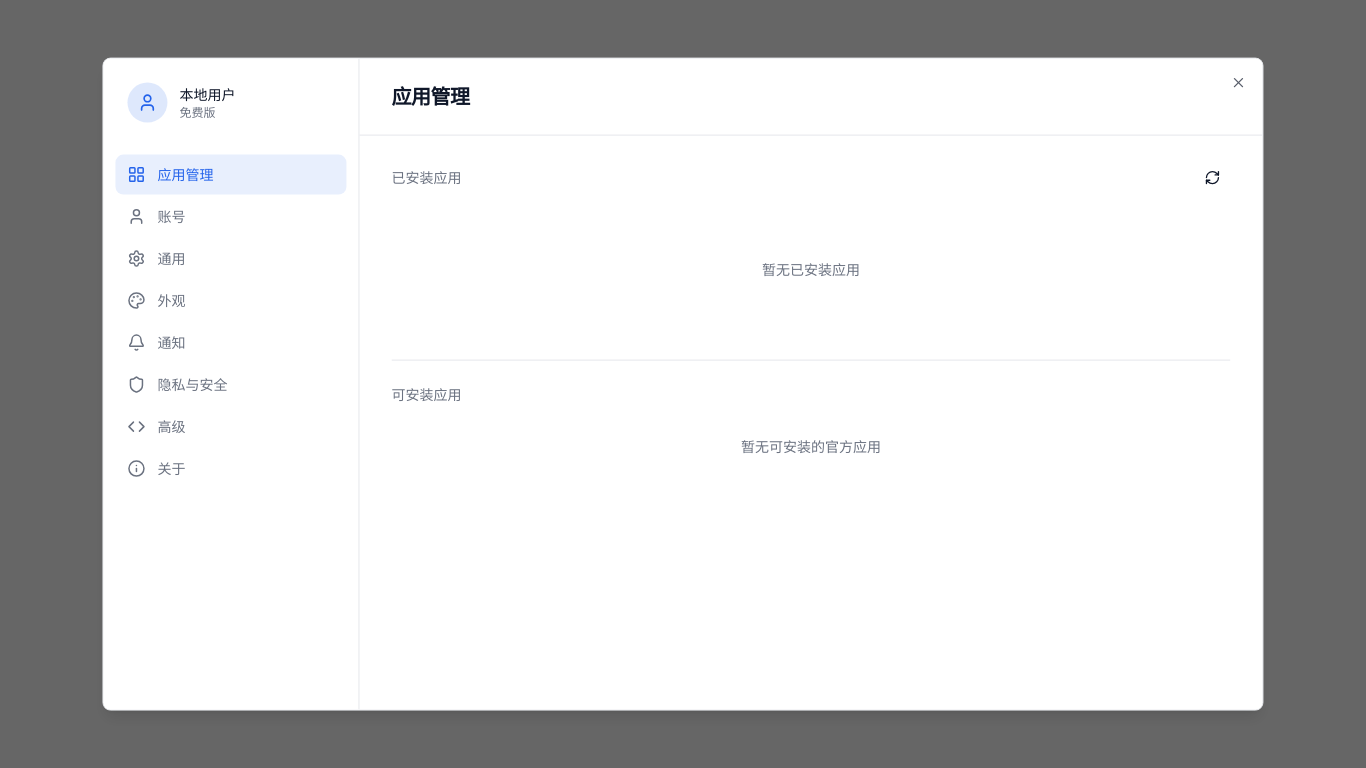
Scenario: 设置关于页 › 显示真实版本并检查更新
Click the button "关于" at (231, 469), box [116,449,346,489]
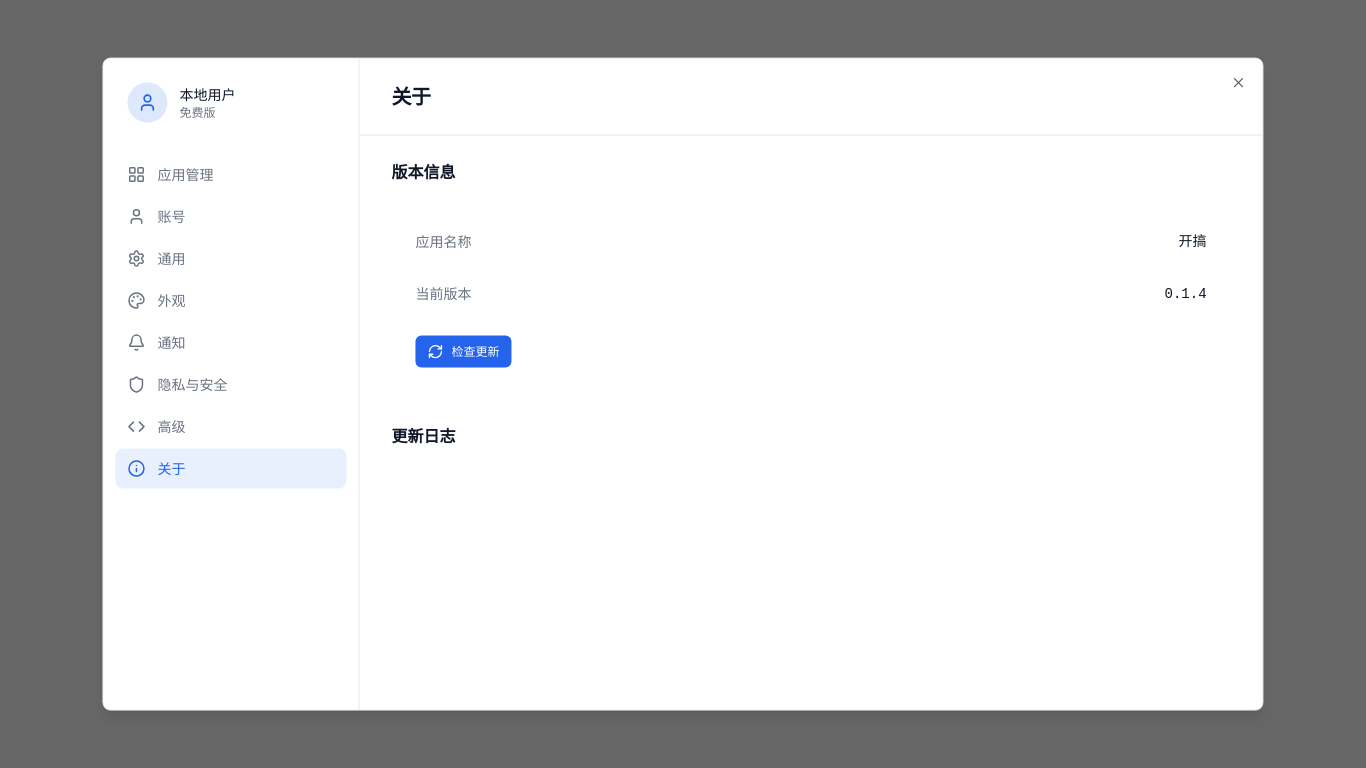
Result: the text "0.1.4" is shown at [1164,284,1206,304]
Click the button "检查更新" at (464, 352), box [416,336,512,368]
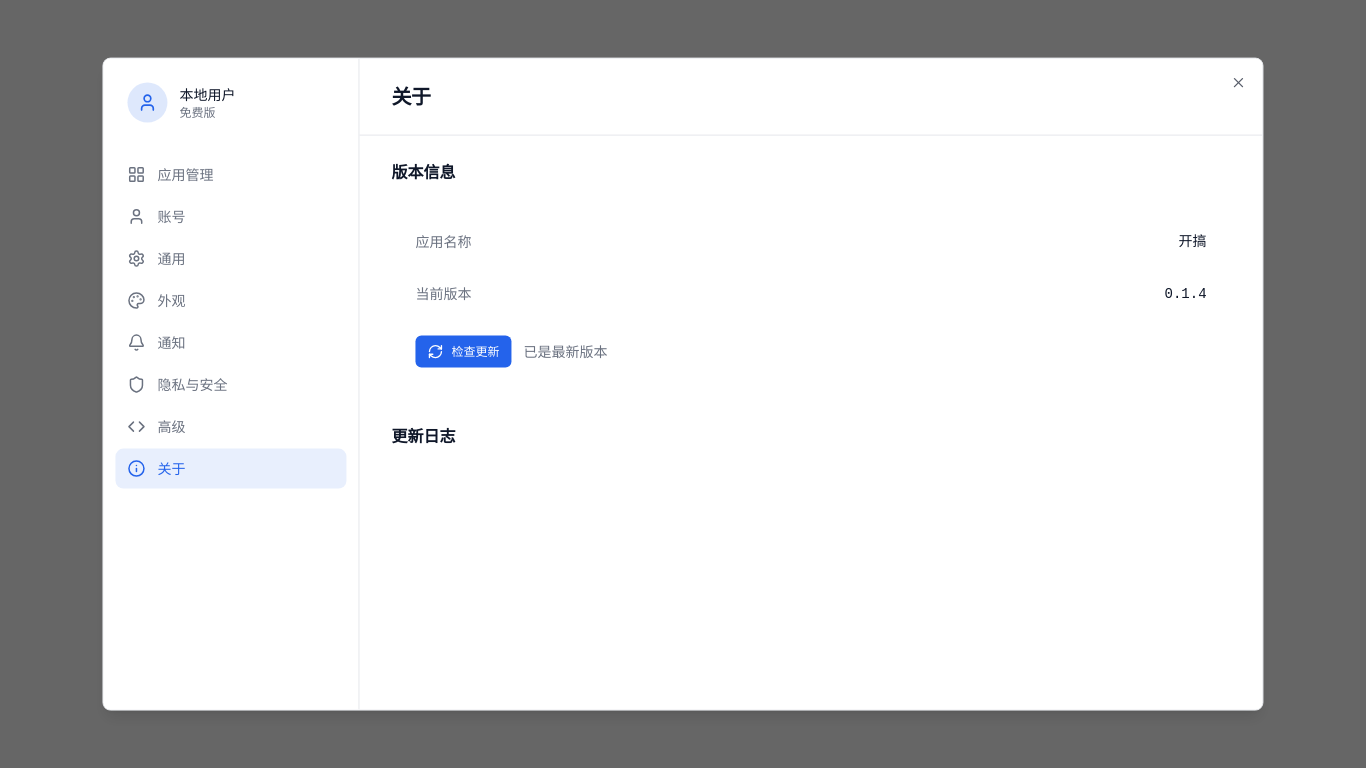
Result: the text "已是最新版本" is shown at [524,342,608,362]
